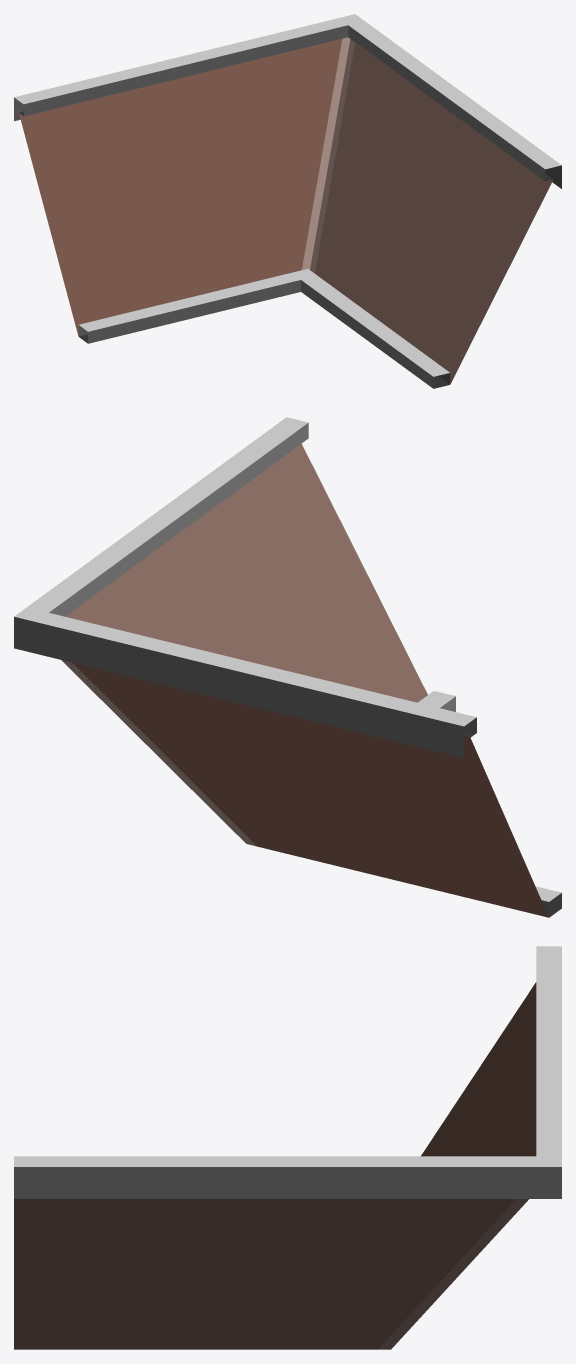
Rendered from Roof03_InnerCorner.fbx.
3 views of the same model, one above another, from view 1: azimuth 30°, elevation 25°; view 2: azimuth 150°, elevation 25°; view 3: azimuth 270°, elevation 25° (orthographic). The views are drawn at different scales.
Visible parts, largest first — view 1: Roof03_InnerCorner; view 2: Roof03_InnerCorner; view 3: Roof03_InnerCorner.
Part boxes in pixels (x1=…): Roof03_InnerCorner: x1=14, y1=14, x2=561, y2=388; Roof03_InnerCorner: x1=14, y1=417, x2=561, y2=917; Roof03_InnerCorner: x1=14, y1=946, x2=561, y2=1349.
Size of the model in its own units: 1.49 by 0.8 by 1.56.
